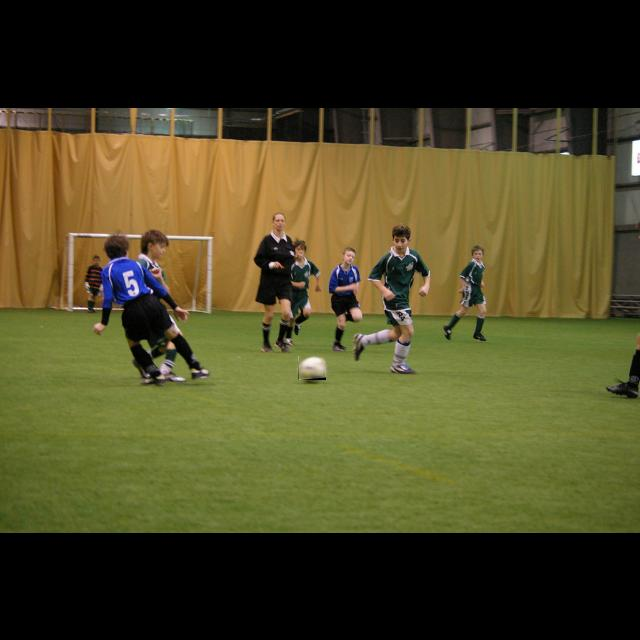Football: (298, 356, 326, 380)
